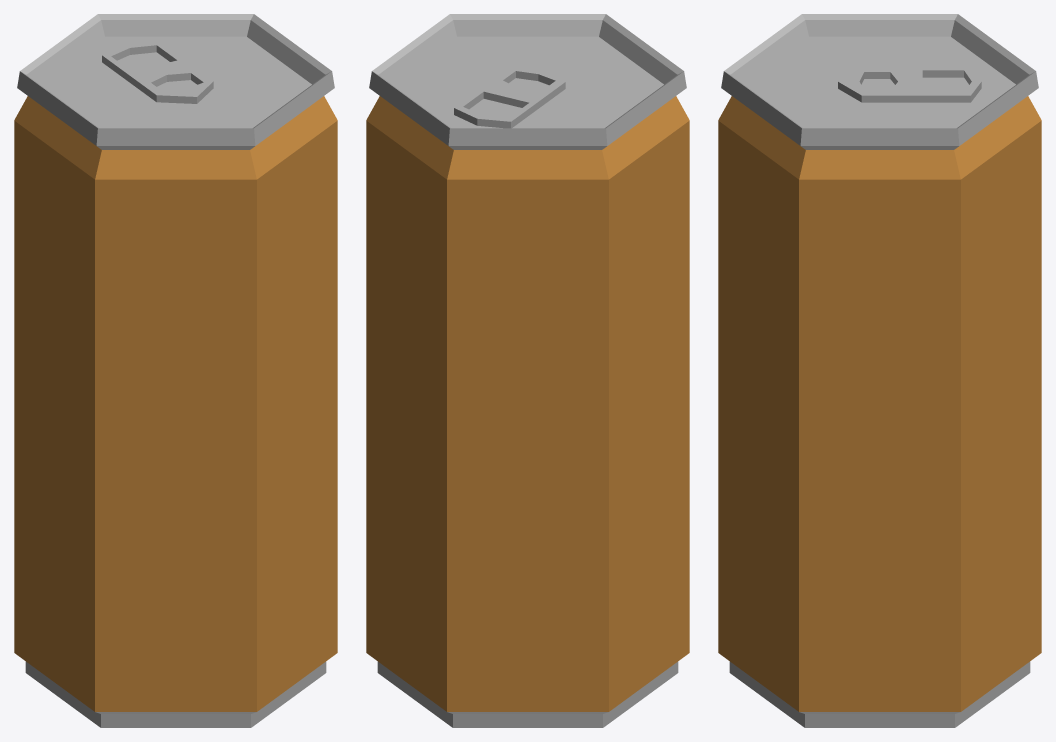
File: BeverageCan2Orange.fbx
3 renders of one model, left to right at view 1: azimuth 30°, elevation 25°; view 2: azimuth 150°, elevation 25°; view 3: azimuth 270°, elevation 25°, orthographic.
Parts seen in each view (by area): view 1: Cylinder; view 2: Cylinder; view 3: Cylinder.
Boxes of the visible parts, x1,y1,x2,y2 form: Cylinder: [14, 14, 337, 727]; Cylinder: [366, 14, 689, 727]; Cylinder: [718, 14, 1041, 727].
Bounding box in the file's own units: 0.1183 × 0.2802 × 0.1366.
